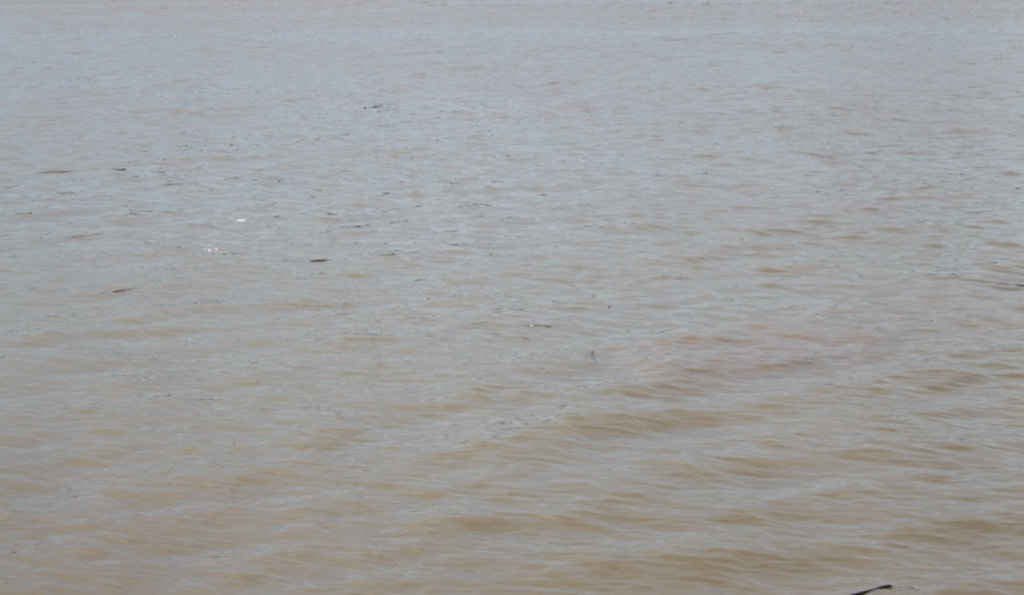organic: (837, 571, 901, 595), (514, 314, 559, 336), (582, 342, 604, 377), (302, 250, 332, 269), (360, 98, 392, 113)
plastic: (190, 234, 233, 267), (222, 206, 254, 232)
